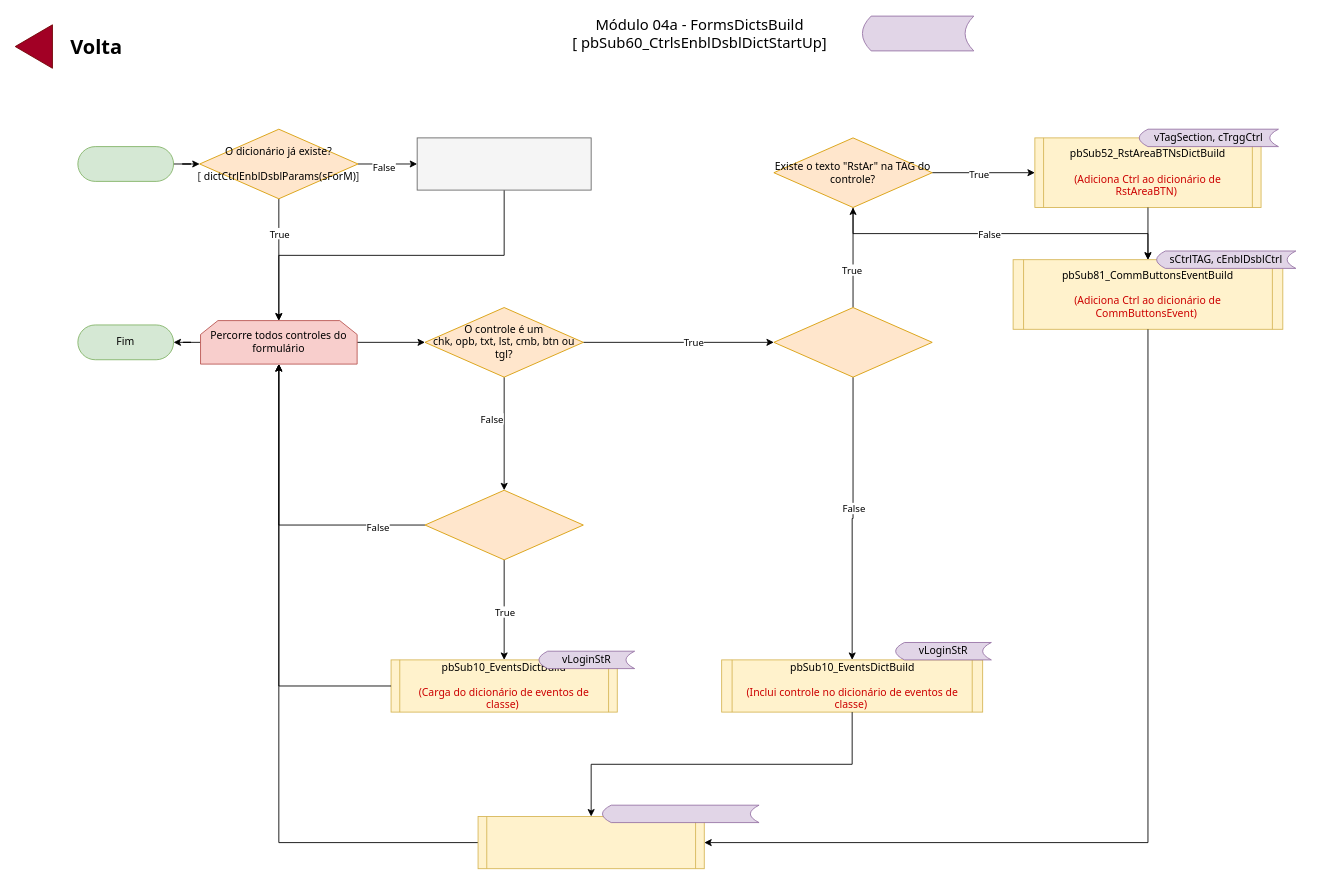
The diagram is 1337 pixels wide and 884 high, and some of its shapes have lost their labels. The centre of each missing label's shape, as x and y in pixels:
Cria dicionário [ dictCtrlEnblDsblParams(sForM) ]: the point at 503,163
fForM: the point at 918,33
Início: the point at 125,163
O controle é um commandButton ?: the point at 852,342
O controle é um lbl com nome "lblStatusBar" ?: the point at 503,524
pbSub61_cCtrlsEnblDsblDictBuild (Carga do dicionário de eventos de classe): the point at 590,842
sForM, sCtrlTAG, cEnblDsblCtrl: the point at 680,813
